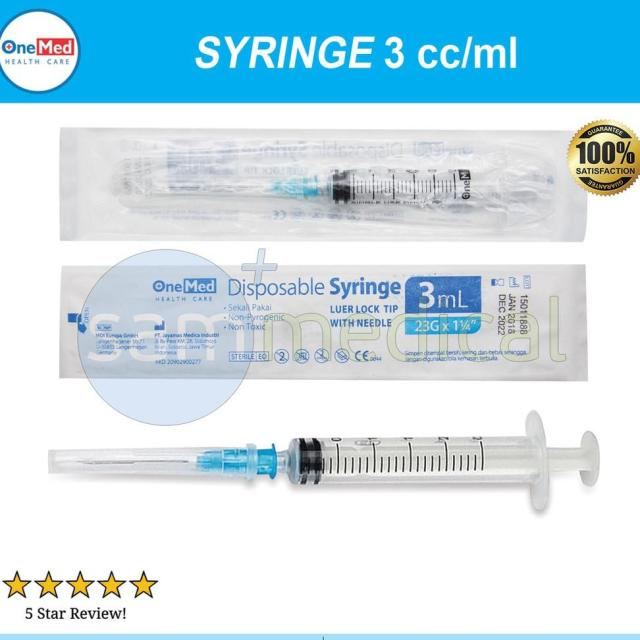B3: (50, 121, 602, 253), (32, 400, 607, 524)
